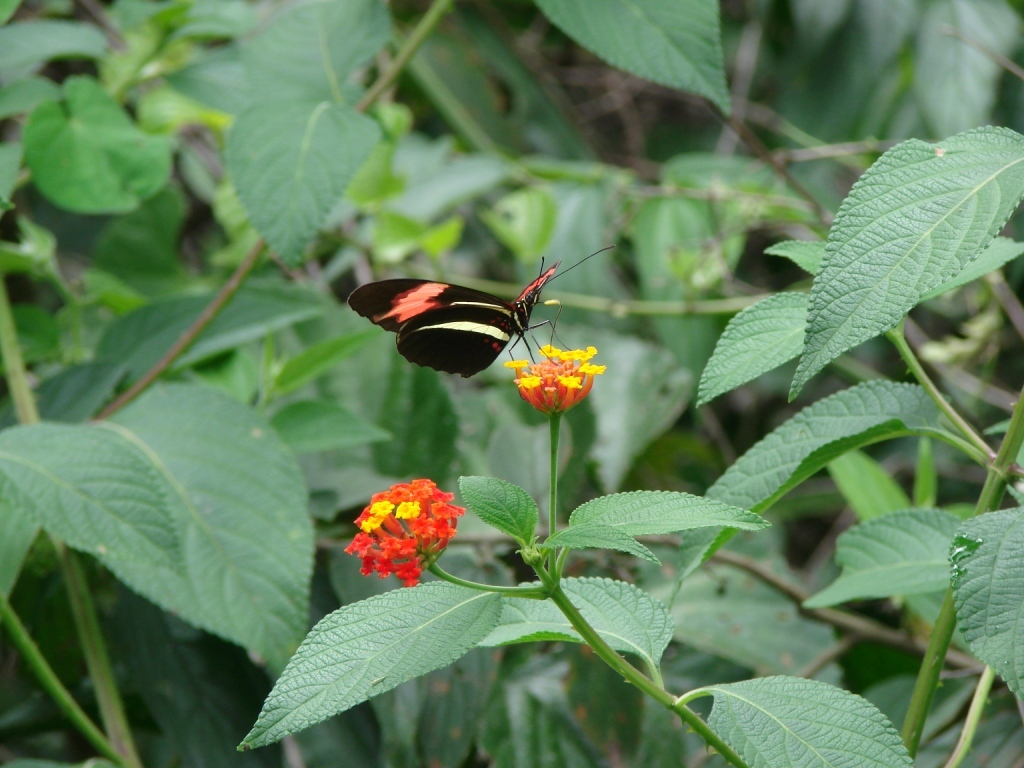Butterfly: (336, 253, 567, 384)
